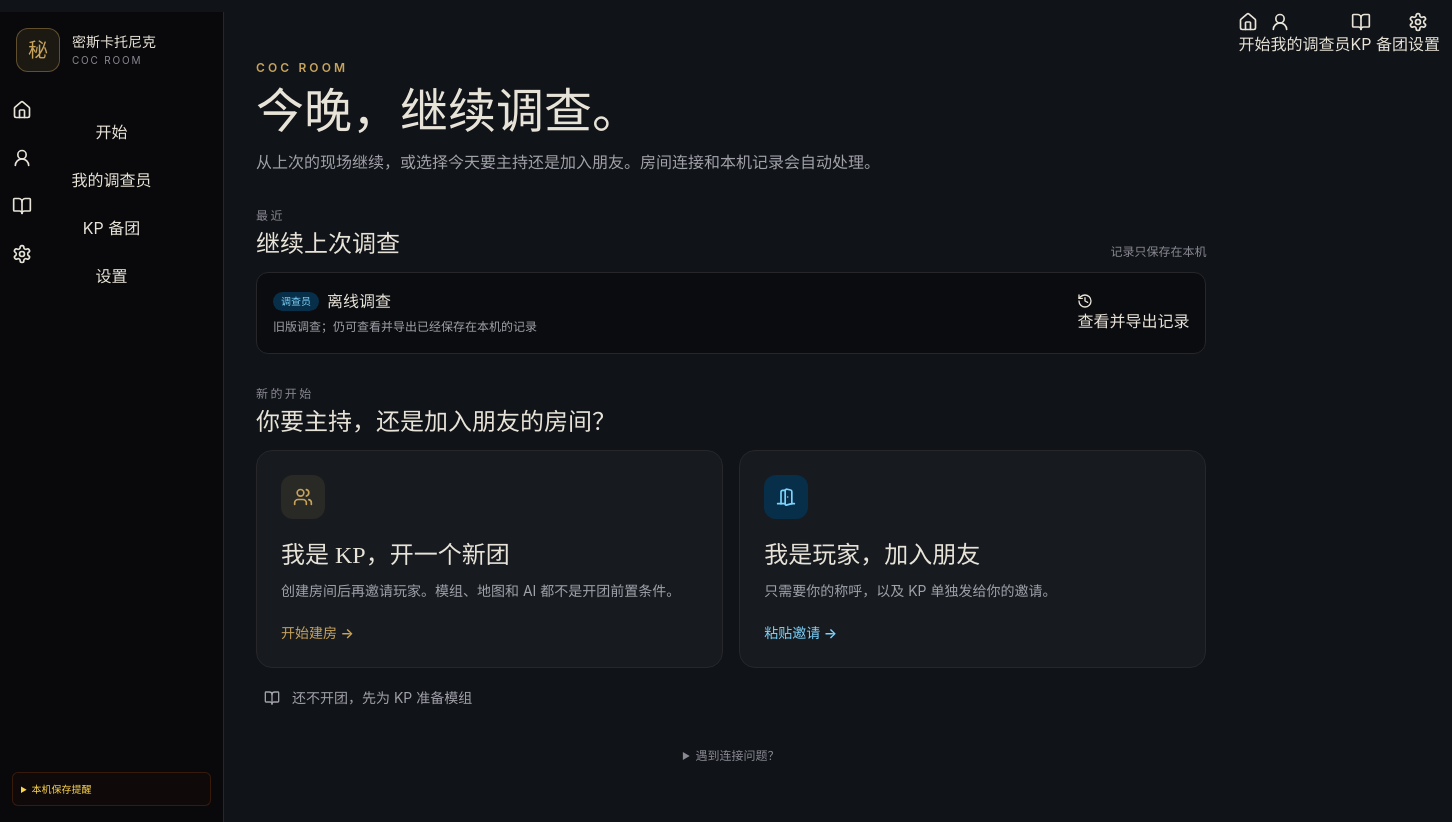
Scenario: App local record mode › loads saved events without constructing a RoomSession
What coordinates should you click on to do the following:
click the button "查看并导出记录"
I would click on:
 (1134, 313)
Its box is top-left (1078, 293), bottom-right (1190, 333).
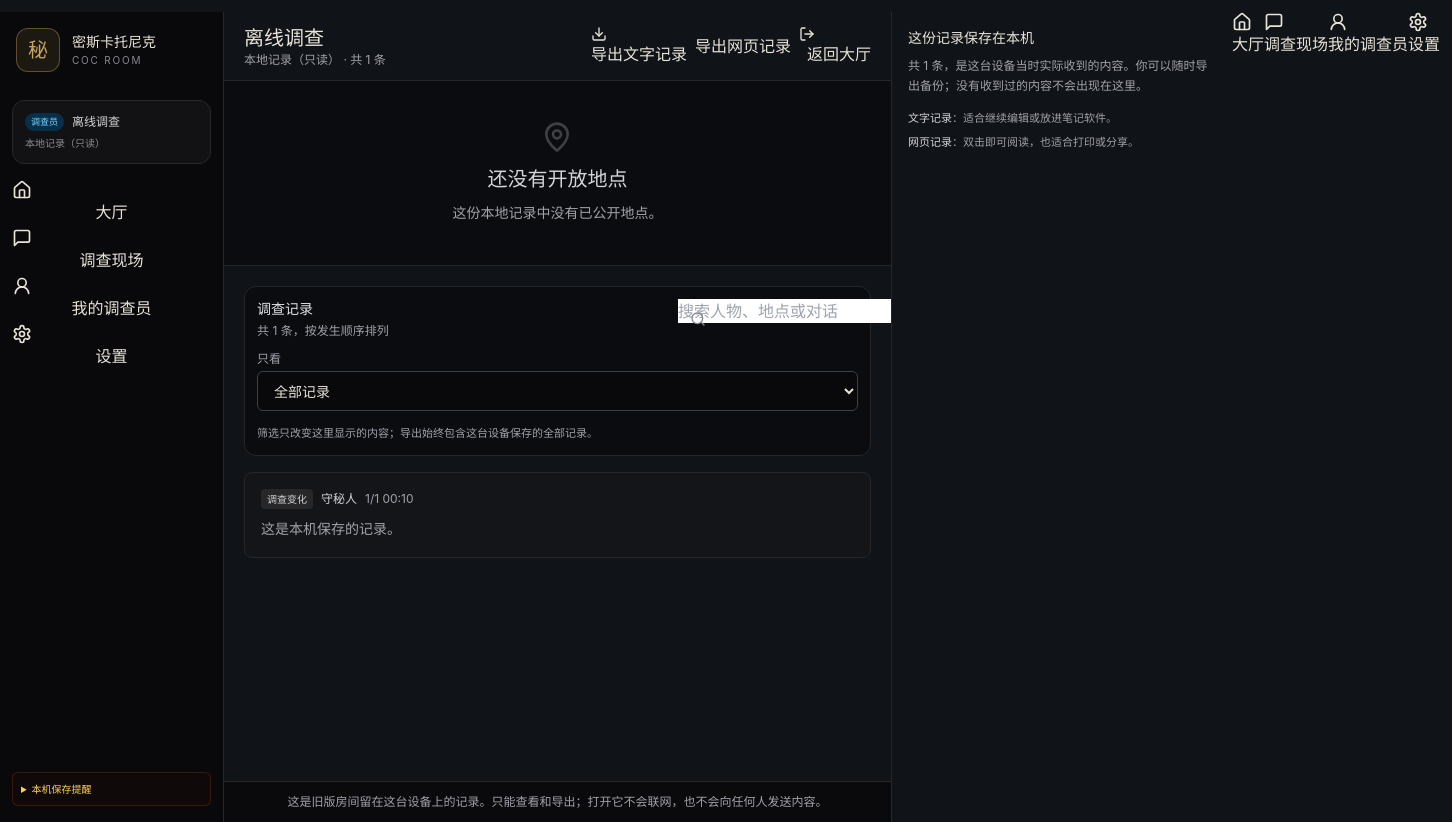
Expected: the text "这是本机保存的记录。" is shown, top-left (261, 520), bottom-right (401, 537)
Expected: the text "本地记录（只读）" is shown, top-left (25, 136), bottom-right (105, 148)
What coordinates should you click on to do the following:
click the button "返回大厅"
I would click on:
 (835, 46)
Its box is top-left (799, 26), bottom-right (871, 66).
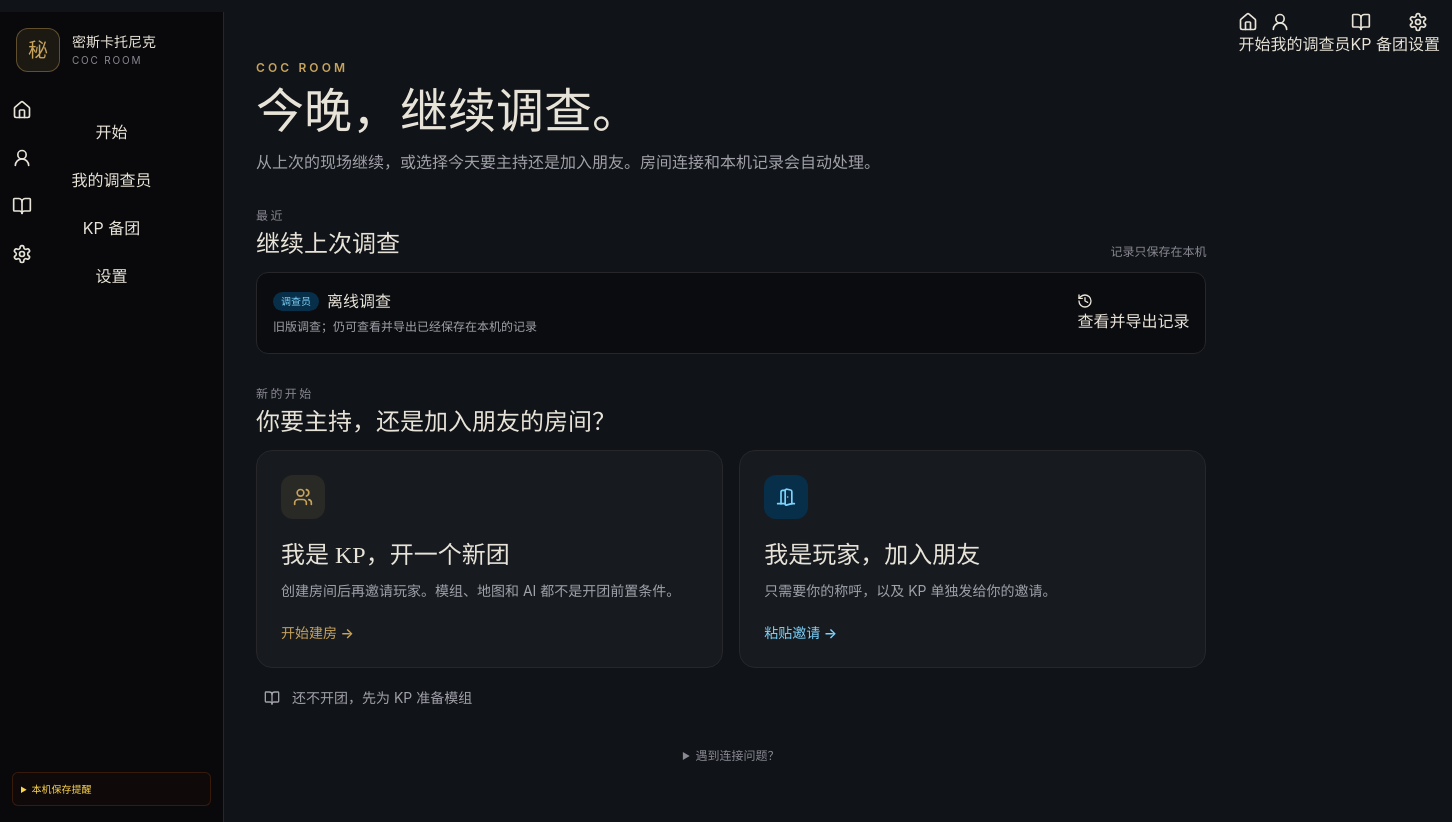
Expected: the heading "今晚，继续调查。" is shown, top-left (256, 85), bottom-right (640, 138)
